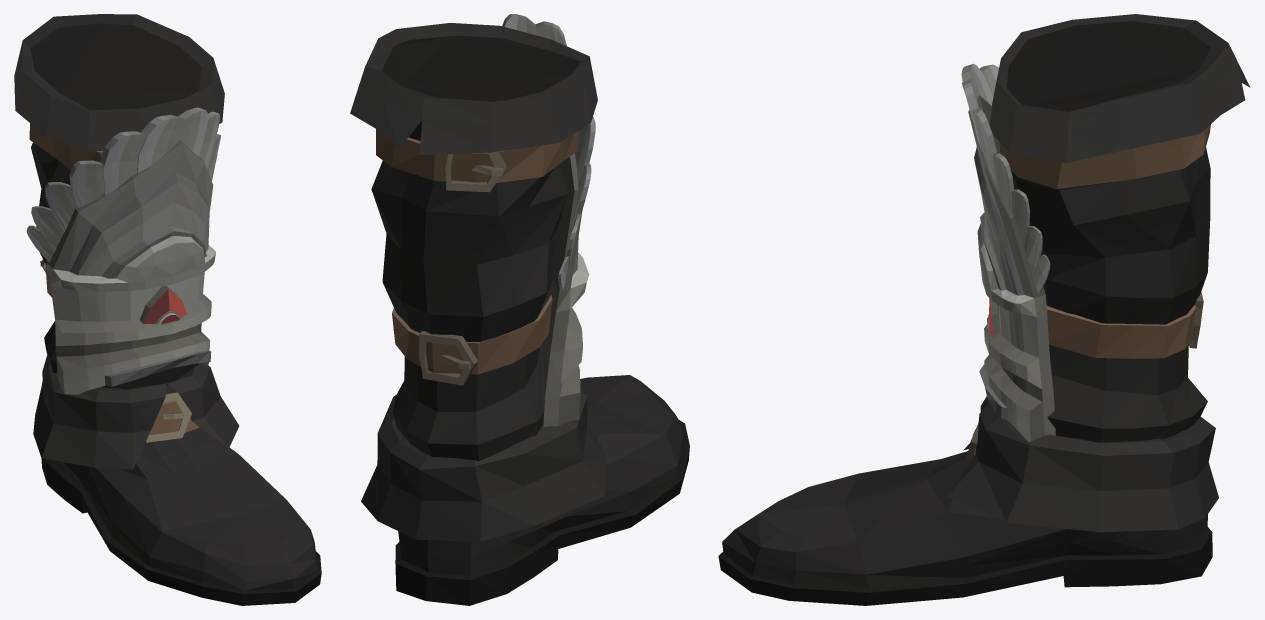
The model's file is lostCrownBoot.glb.
3 views of the same model, side by side, from view 1: azimuth 30°, elevation 25°; view 2: azimuth 150°, elevation 25°; view 3: azimuth 270°, elevation 25° (orthographic). The views are drawn at different scales.
Parts seen in each view (by area): view 1: lostCrownBootLowerLeg, lostCrownBootFeet; view 2: lostCrownBootLowerLeg, lostCrownBootFeet; view 3: lostCrownBootLowerLeg, lostCrownBootFeet.
Boxes of the visible parts, left/top/right/bottom form: lostCrownBootLowerLeg: left=14, top=14, right=224, bottom=395; lostCrownBootFeet: left=33, top=356, right=321, bottom=605; lostCrownBootLowerLeg: left=350, top=14, right=597, bottom=461; lostCrownBootFeet: left=361, top=375, right=689, bottom=605; lostCrownBootLowerLeg: left=961, top=14, right=1250, bottom=442; lostCrownBootFeet: left=718, top=396, right=1218, bottom=605.
Bounding box in the file's own units: 0.194 × 0.4355 × 0.4093.
